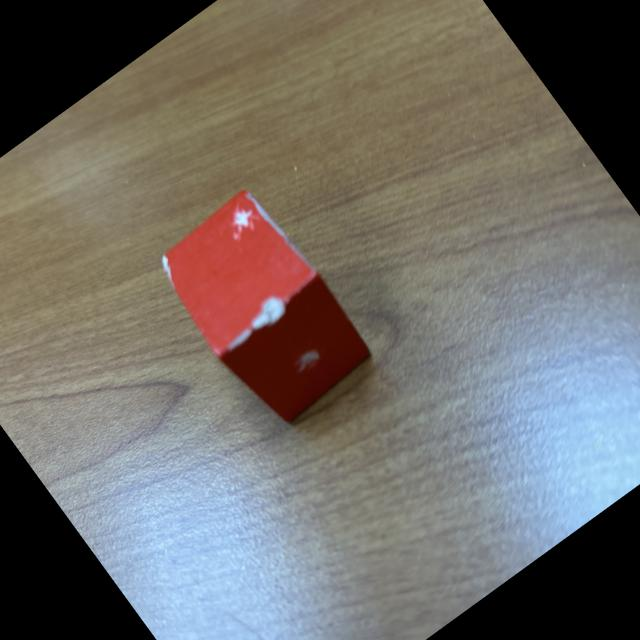broken: (145, 180, 384, 436)
